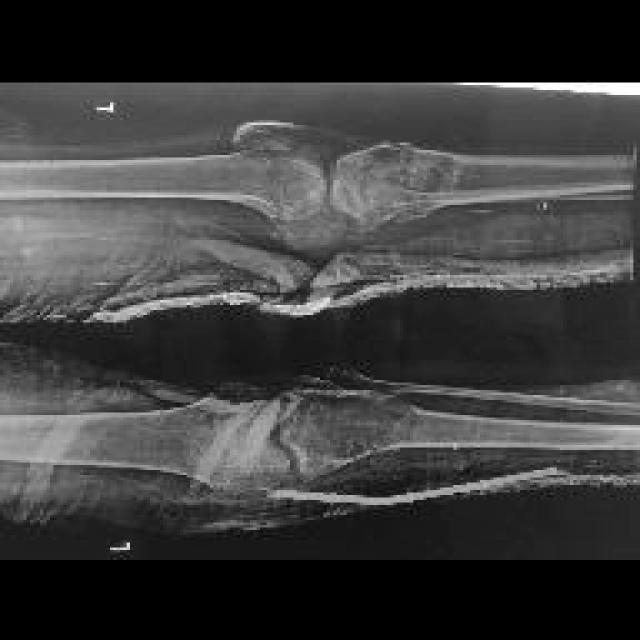bone-cancer: (275, 390, 413, 482), (333, 142, 453, 229)
